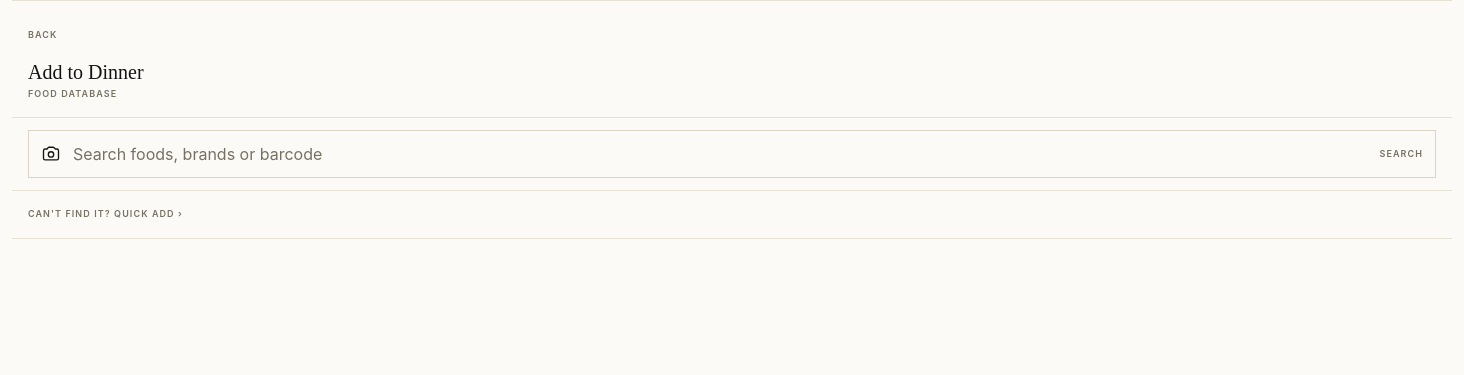
Test case: FoodPicker › shows an honesty note after a submitted OFF search hides incomplete foods
In the search field: (720, 154) [73, 142, 1368, 166], type "skyr"
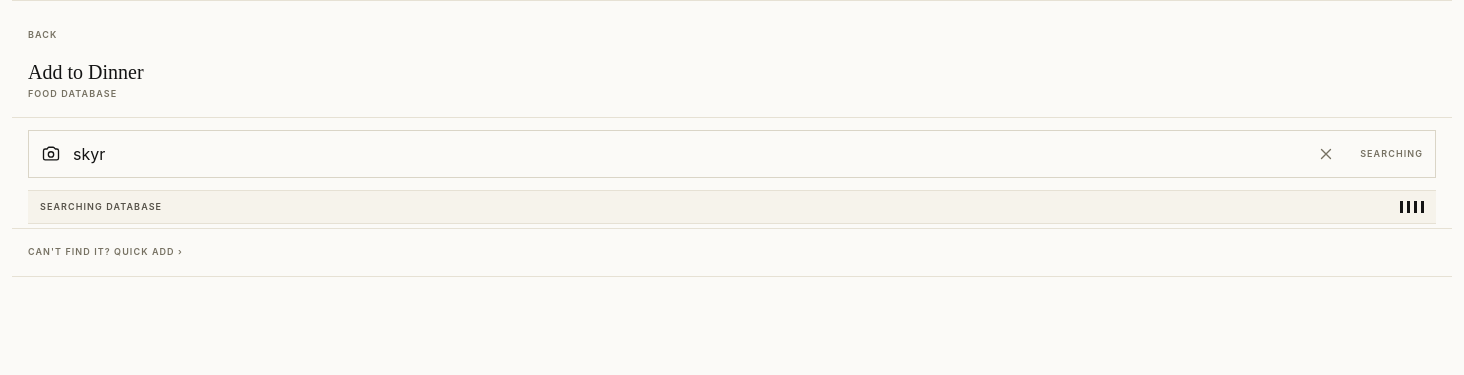
Press Enter in the search field, box [73, 142, 1304, 166]
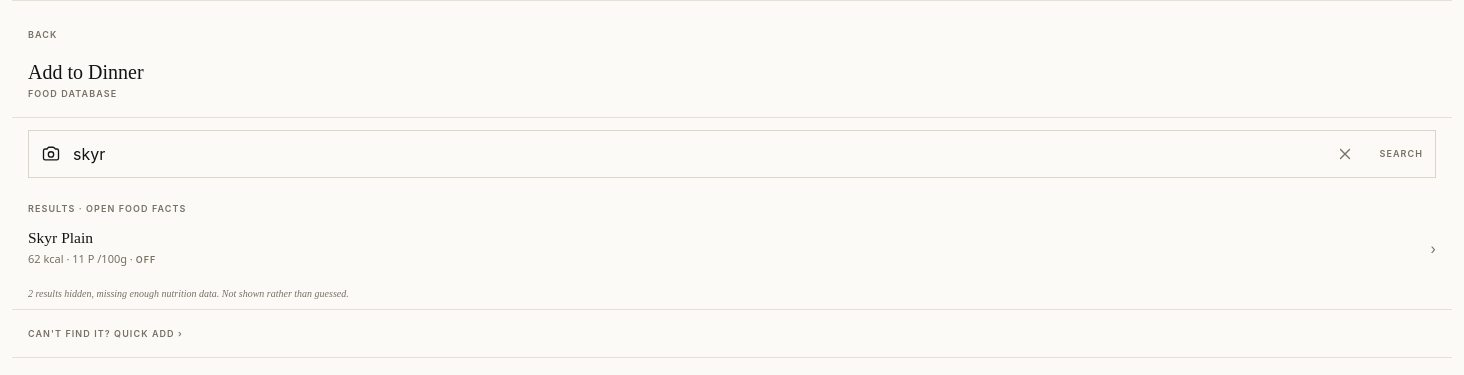
Expected: the text "2 results hidden, missing enough nutrition data" is shown, [28, 288, 349, 299]
